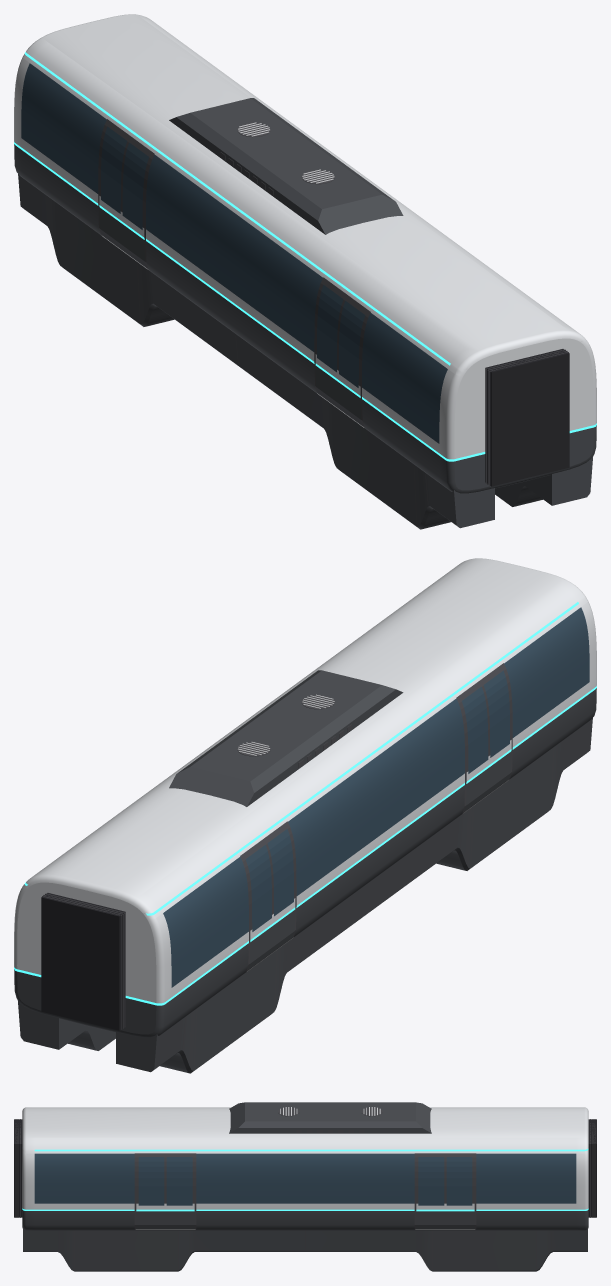
File: middle_1_close.fbx
The picture shows the model from 3 angles, top to bottom: view 1: azimuth 30°, elevation 25°; view 2: azimuth 150°, elevation 25°; view 3: azimuth 270°, elevation 25°; orthographic projection. The views are drawn at different scales.
Parts seen in each view (by area): view 1: 24_middle_1_close; view 2: 24_middle_1_close; view 3: 24_middle_1_close.
Boxes of the visible parts, <box> form: 24_middle_1_close: <box>14,14,596,529</box>; 24_middle_1_close: <box>14,558,596,1073</box>; 24_middle_1_close: <box>14,1102,596,1271</box>.
Bounding box in the file's own units: 2.72 × 3.71 × 14.
